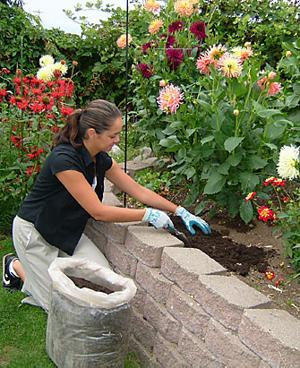person: (3, 98, 210, 312)
